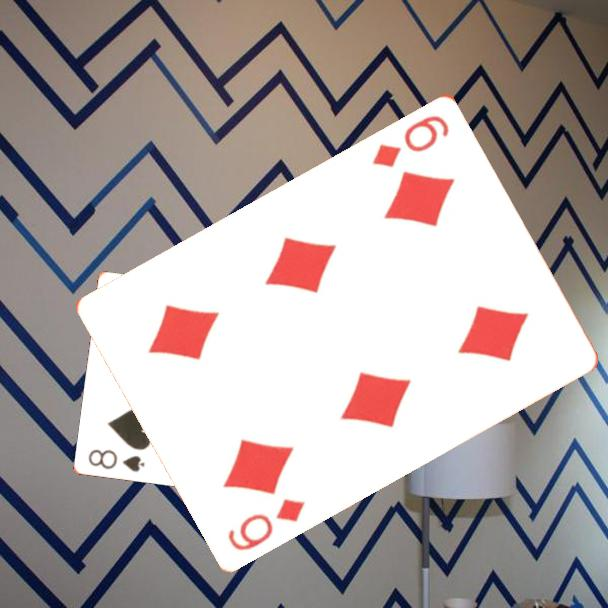d06: (224, 494, 309, 553), (369, 111, 452, 170)
s08: (85, 445, 148, 475)
